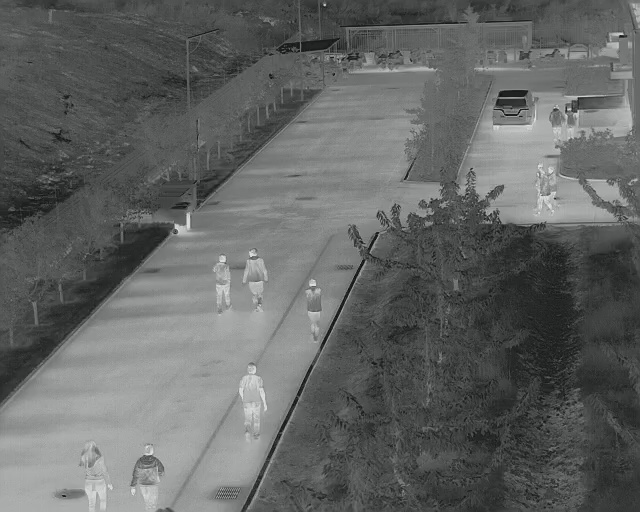person: (82, 440, 110, 511), (240, 363, 265, 440), (134, 443, 161, 510), (245, 249, 267, 311), (213, 254, 233, 314), (537, 165, 558, 215), (305, 280, 320, 342), (552, 106, 562, 141)
vehicle: (493, 88, 537, 132)
